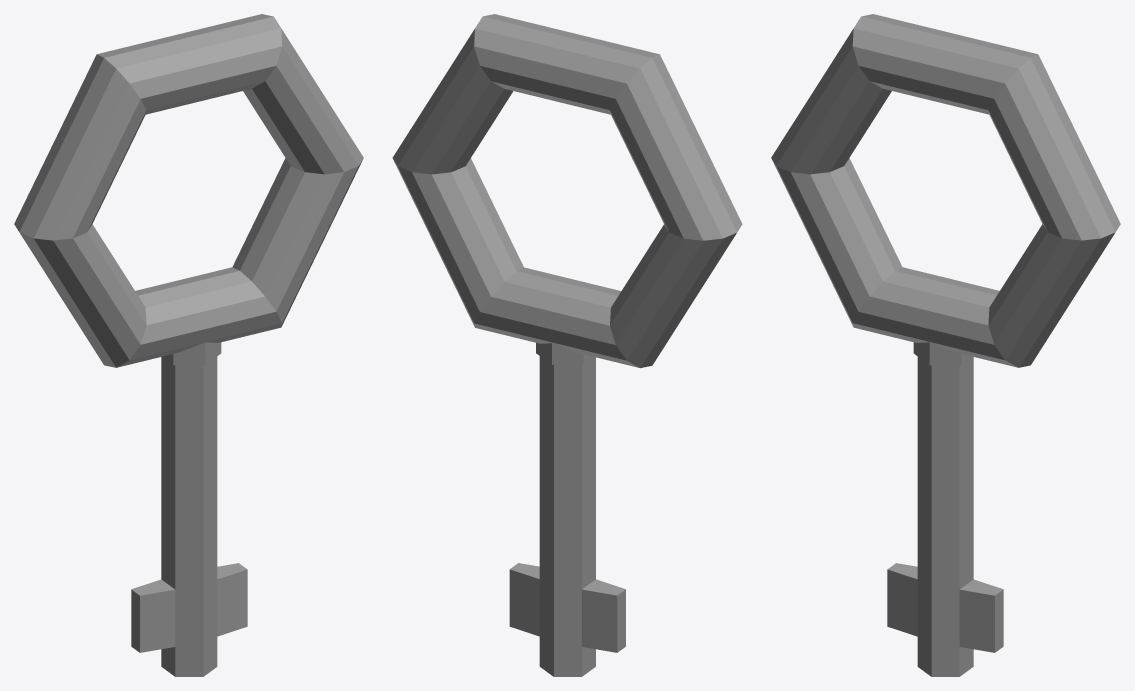
File: key.glb
3 views of the same model, side by side, from view 1: azimuth 30°, elevation 25°; view 2: azimuth 150°, elevation 25°; view 3: azimuth 330°, elevation 25° (orthographic).
Parts seen in each view (by area): view 1: key; view 2: key; view 3: key.
Boxes of the visible parts, x1,y1,x2,y2 form: key: (14,14,363,676); key: (392,14,742,676); key: (771,14,1120,676).
Bounding box in the file's own units: 0.0671 × 0.119 × 0.0134.
1 material, 1 textured.
